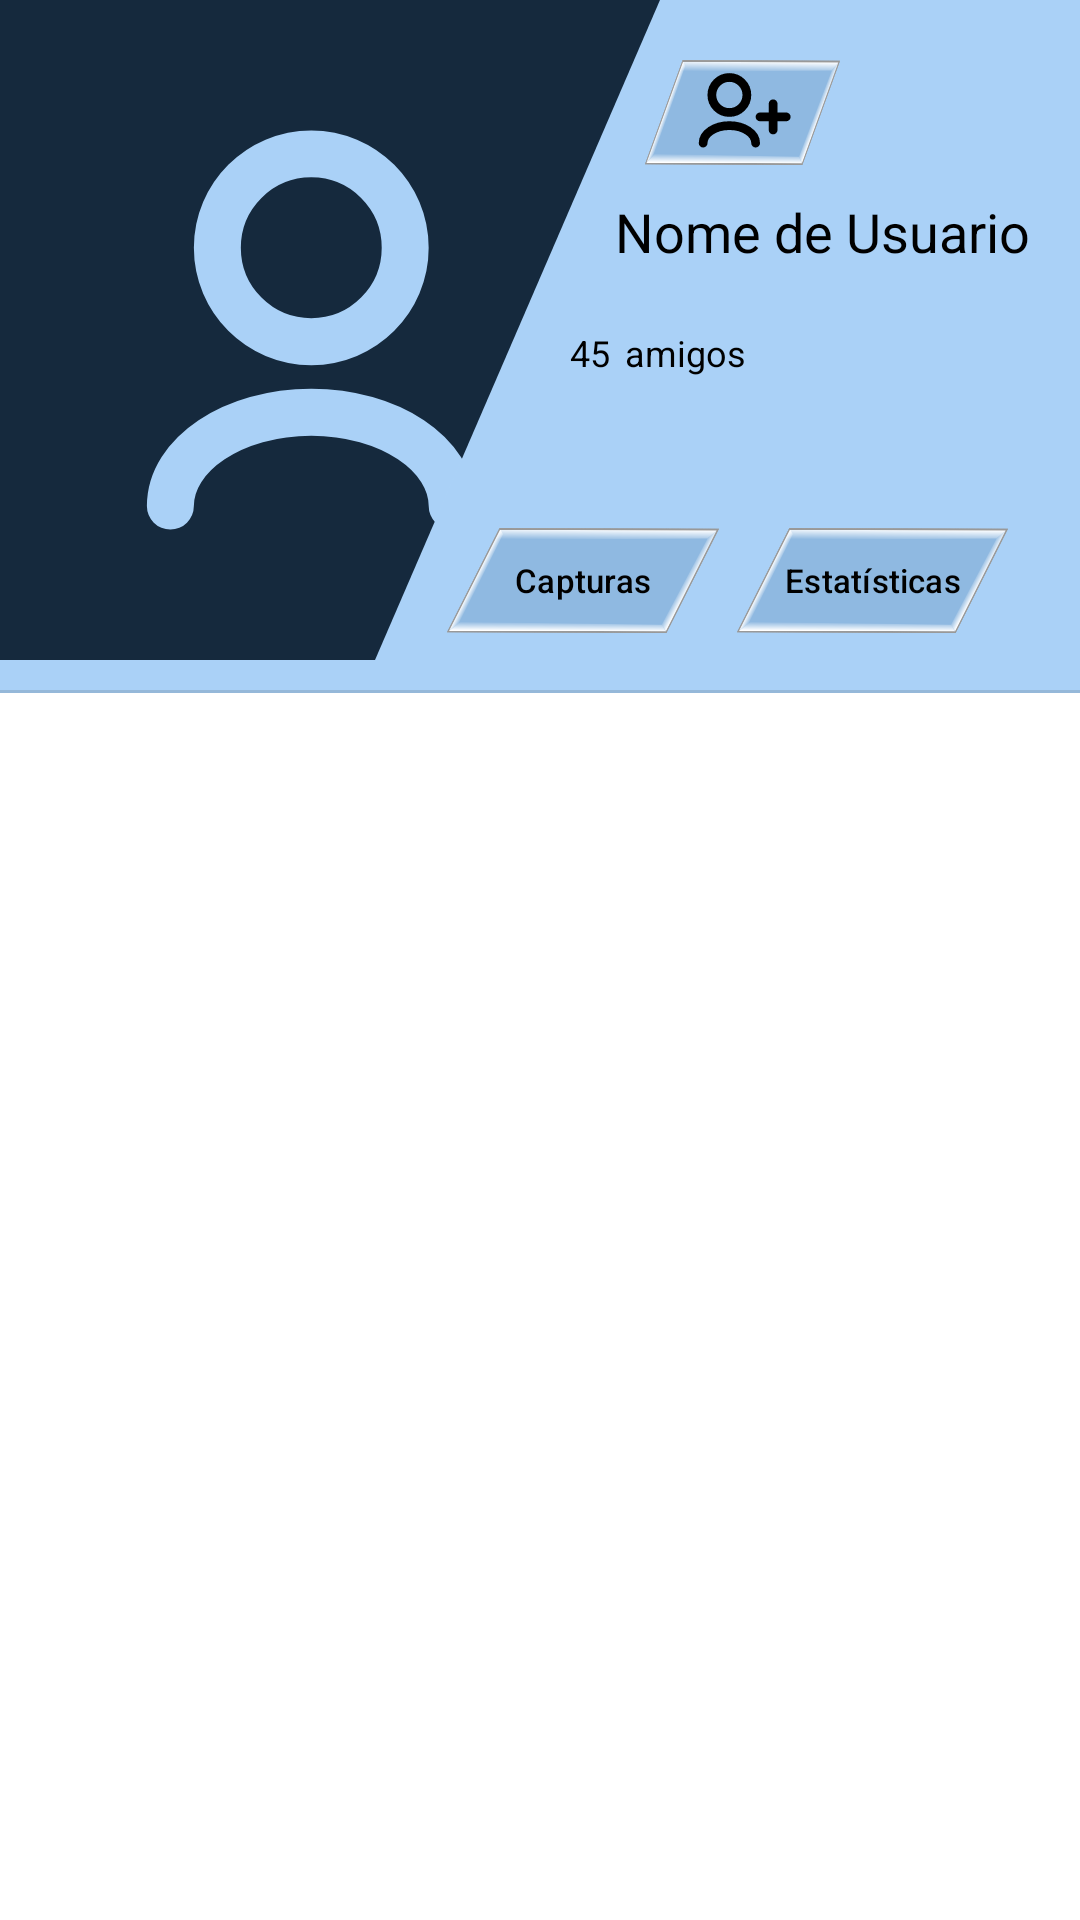

Named icons in this screenshot (1080w x 1920h) and their centers, point (x, y):
user add: point (742, 112)
